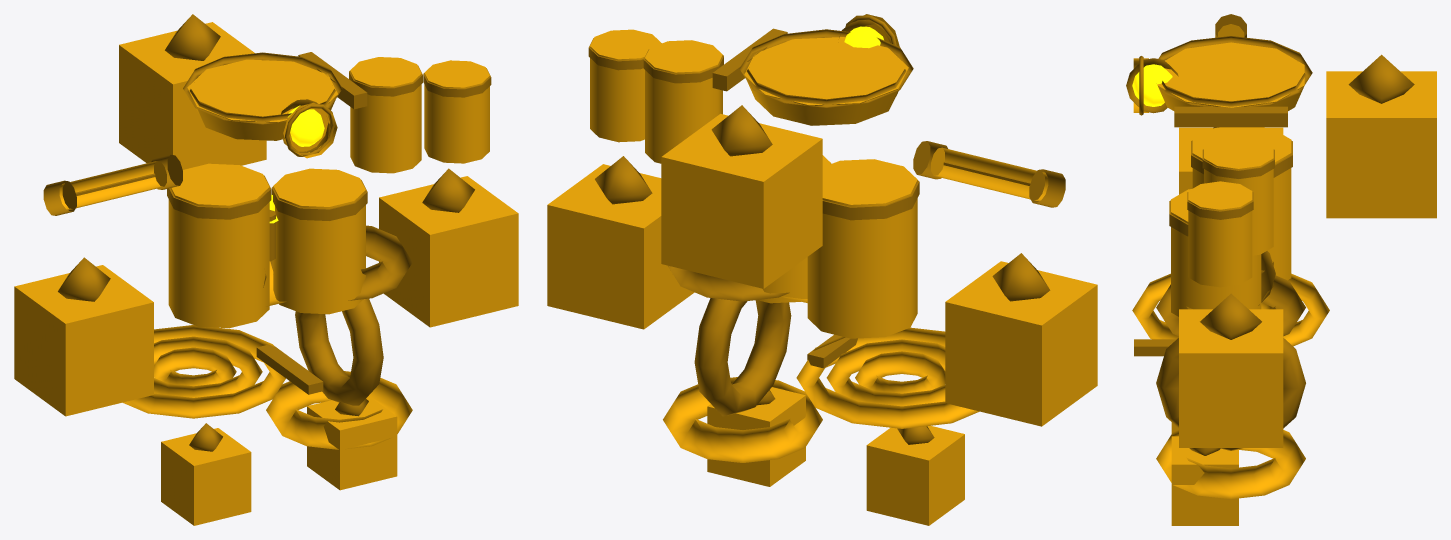
Rendered from golem_083.glb.
The picture shows the model from 3 angles, left to right: view 1: azimuth 30°, elevation 25°; view 2: azimuth 150°, elevation 25°; view 3: azimuth 270°, elevation 25°; orthographic projection. The views are drawn at different scales.
Parts seen in each view (by area): view 1: Body, Detail, Glow; view 2: Body, Detail, Glow; view 3: Body, Detail, Glow.
Part boxes in pixels (bbox=[...]): Body: bbox=[14, 22, 518, 525]; Detail: bbox=[43, 14, 491, 451]; Glow: bbox=[269, 105, 324, 223]; Body: bbox=[547, 14, 1097, 525]; Detail: bbox=[588, 15, 1065, 444]; Glow: bbox=[844, 26, 883, 48]; Body: bbox=[1132, 24, 1436, 525]; Detail: bbox=[1126, 14, 1414, 455]; Glow: bbox=[1132, 64, 1172, 106].
Size of the model in its own units: 1.3 by 1.13 by 0.759.
